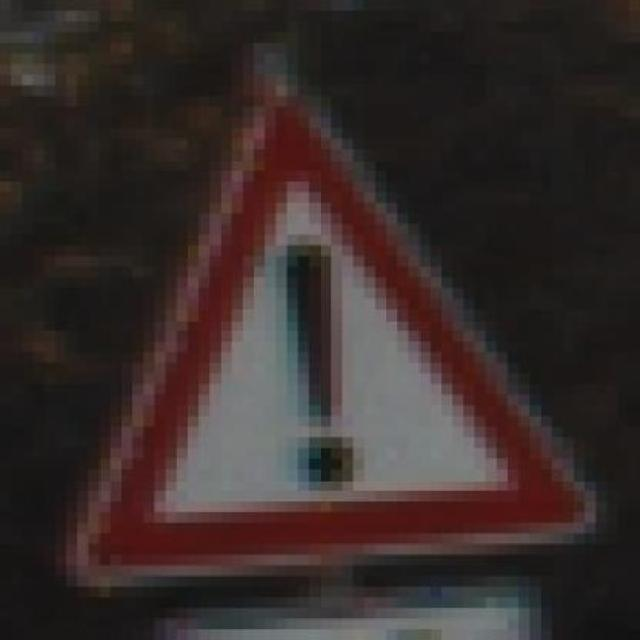Attention Please-: (59, 80, 601, 571)
